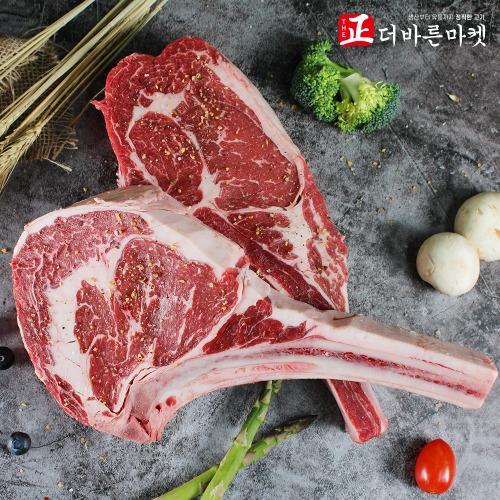beef: (9, 165, 389, 345)
